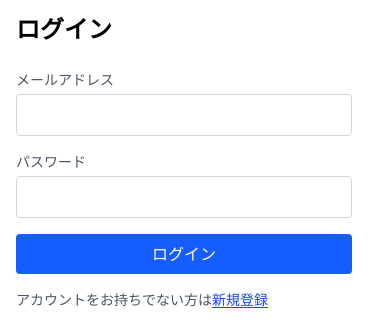
Test: LoginPage › 送信中はボタンが無効になる
Type "user@example.com" into the field labelled "メールアドレス". click: (184, 115)
box: [16, 94, 352, 136]
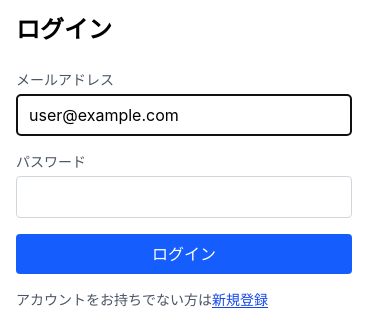
Type "password123" into the password field labelled "パスワード". click: (184, 197)
box: [16, 176, 352, 218]
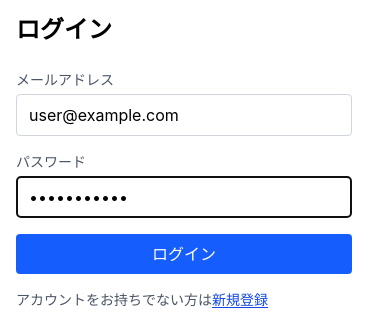
Click the button "ログイン". click: (184, 254)
box: [16, 234, 352, 274]
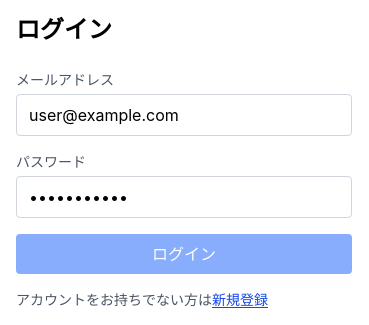
Now the button "ログイン" is disabled, box [16, 234, 352, 274]
